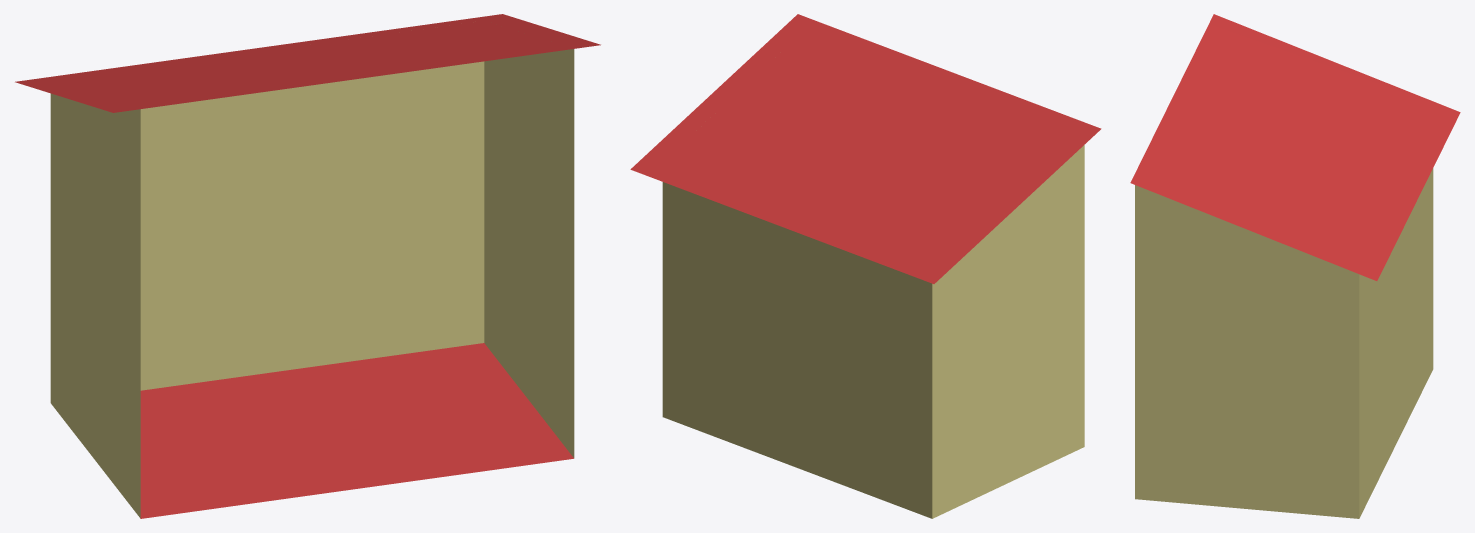
3 renders of one model, left to right at view 1: azimuth 30°, elevation 25°; view 2: azimuth 150°, elevation 25°; view 3: azimuth 270°, elevation 25°, orthographic. The views are drawn at different scales.
Bounding box in the file's own units: 9.8 × 7.17 × 7.8.
